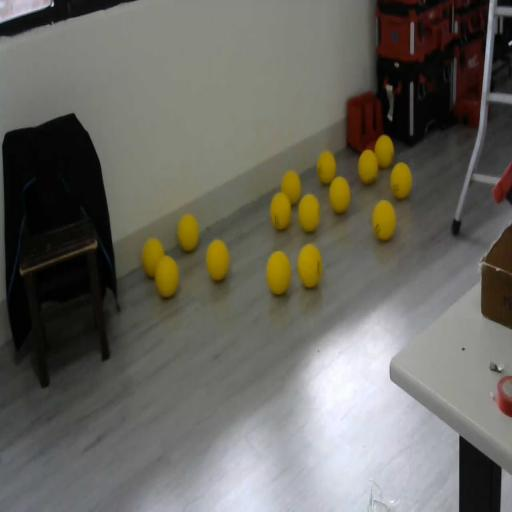FUEL: (153, 253, 180, 299), (266, 250, 292, 295), (297, 242, 322, 288), (206, 238, 230, 282), (372, 199, 396, 241), (298, 192, 320, 233), (328, 175, 351, 214), (177, 213, 200, 252), (280, 168, 302, 206), (357, 148, 379, 185), (390, 162, 412, 199), (374, 134, 395, 168), (316, 150, 336, 185)
